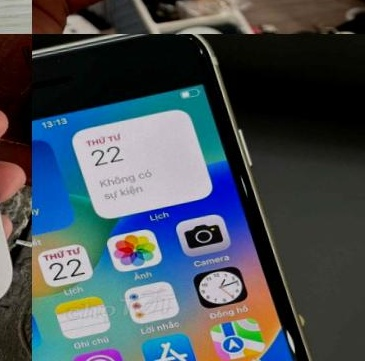scratch: (32, 44, 97, 64), (283, 330, 304, 361), (186, 34, 209, 52)
